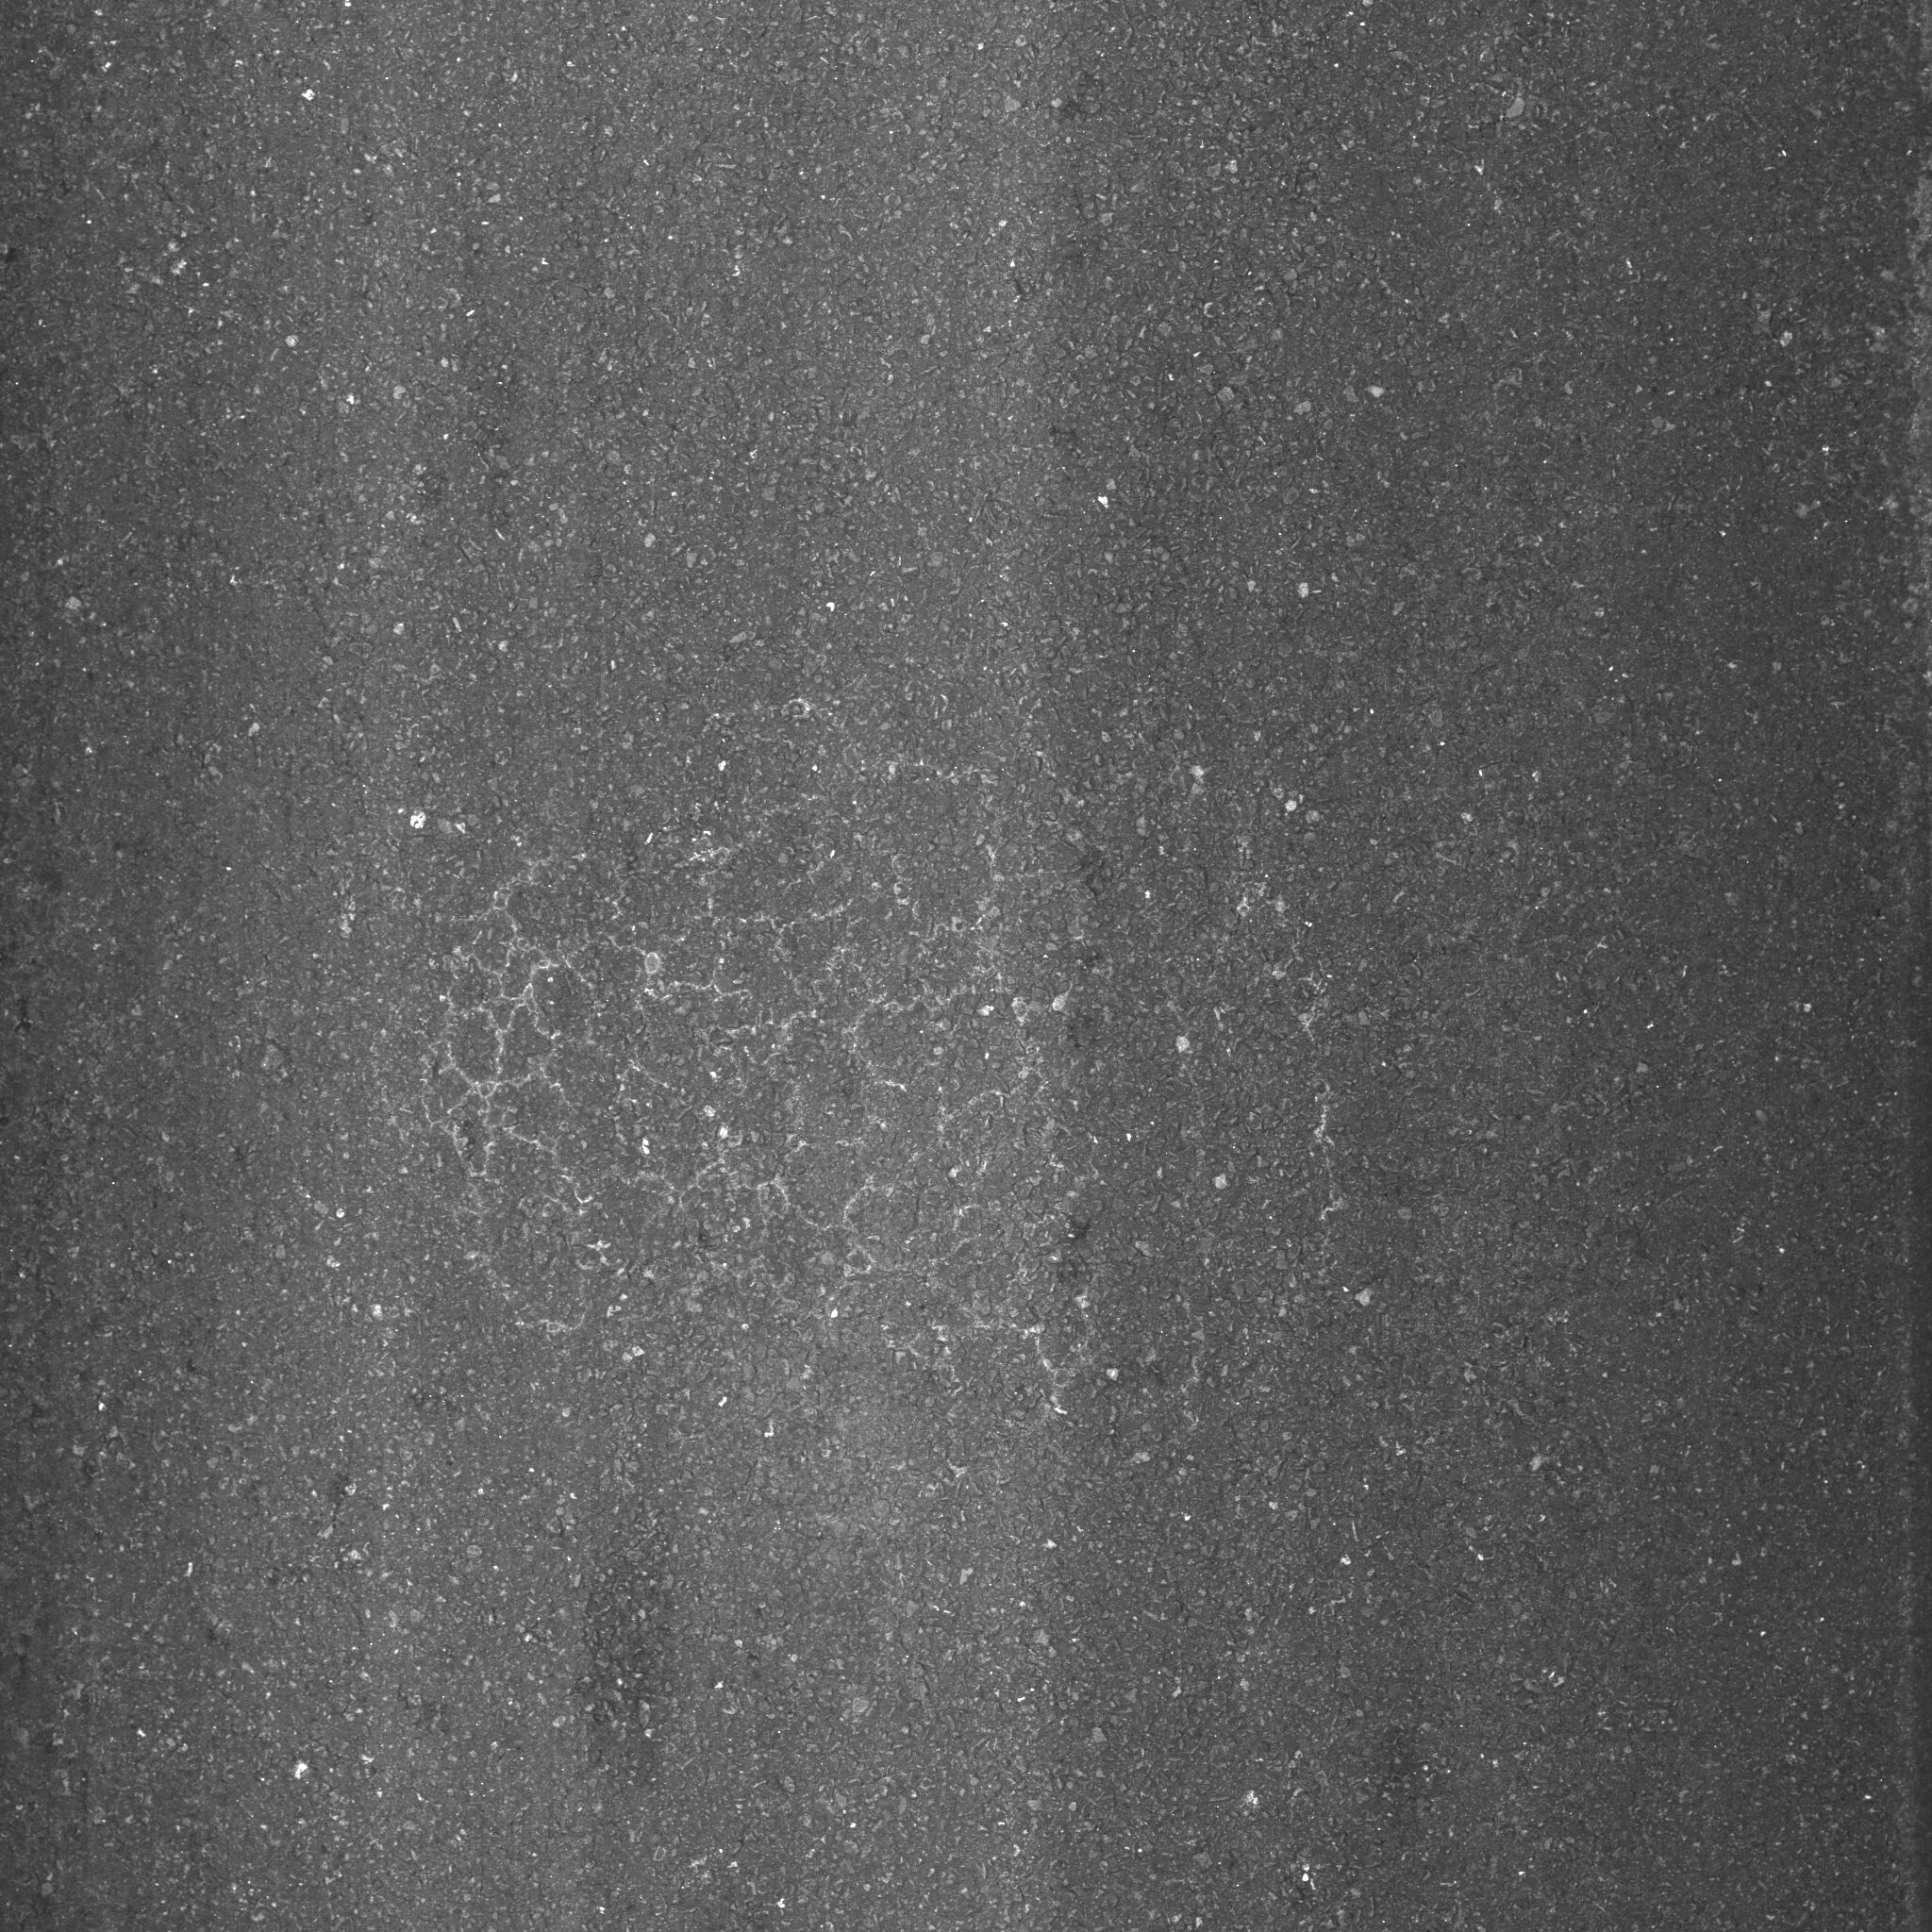alligator: (338, 699, 1426, 1522)
